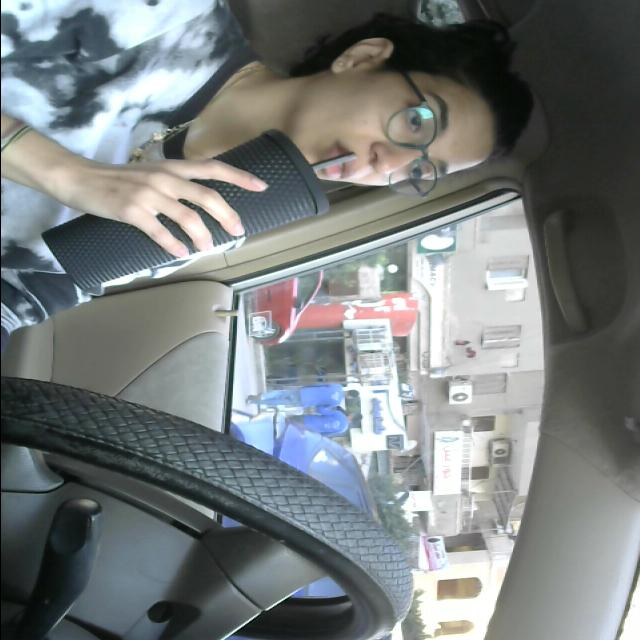drinking: (28, 130, 364, 298)
